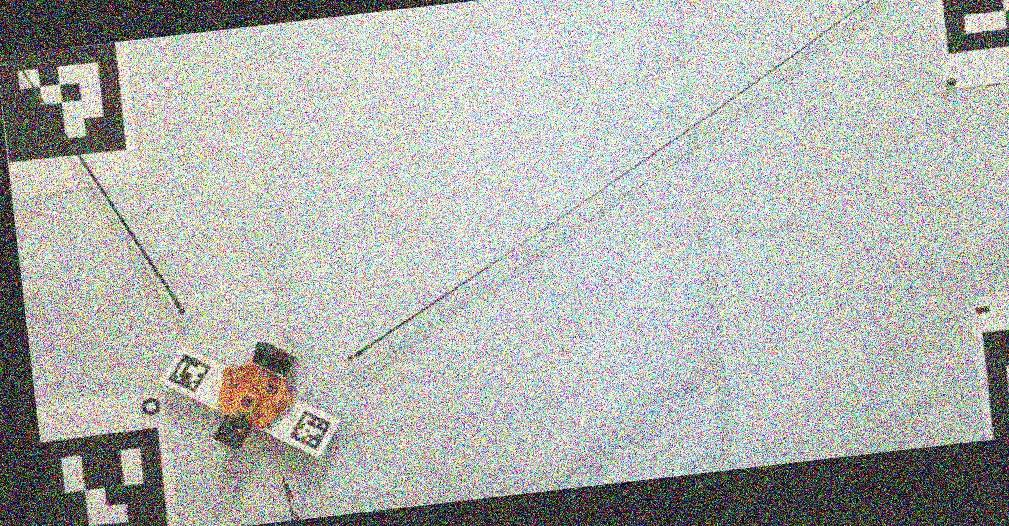robot: (215, 340, 297, 447)
